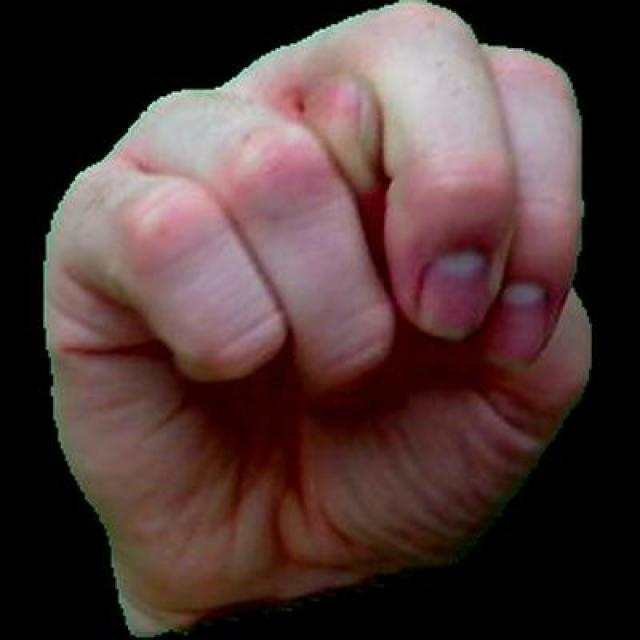n: (22, 0, 613, 637)
